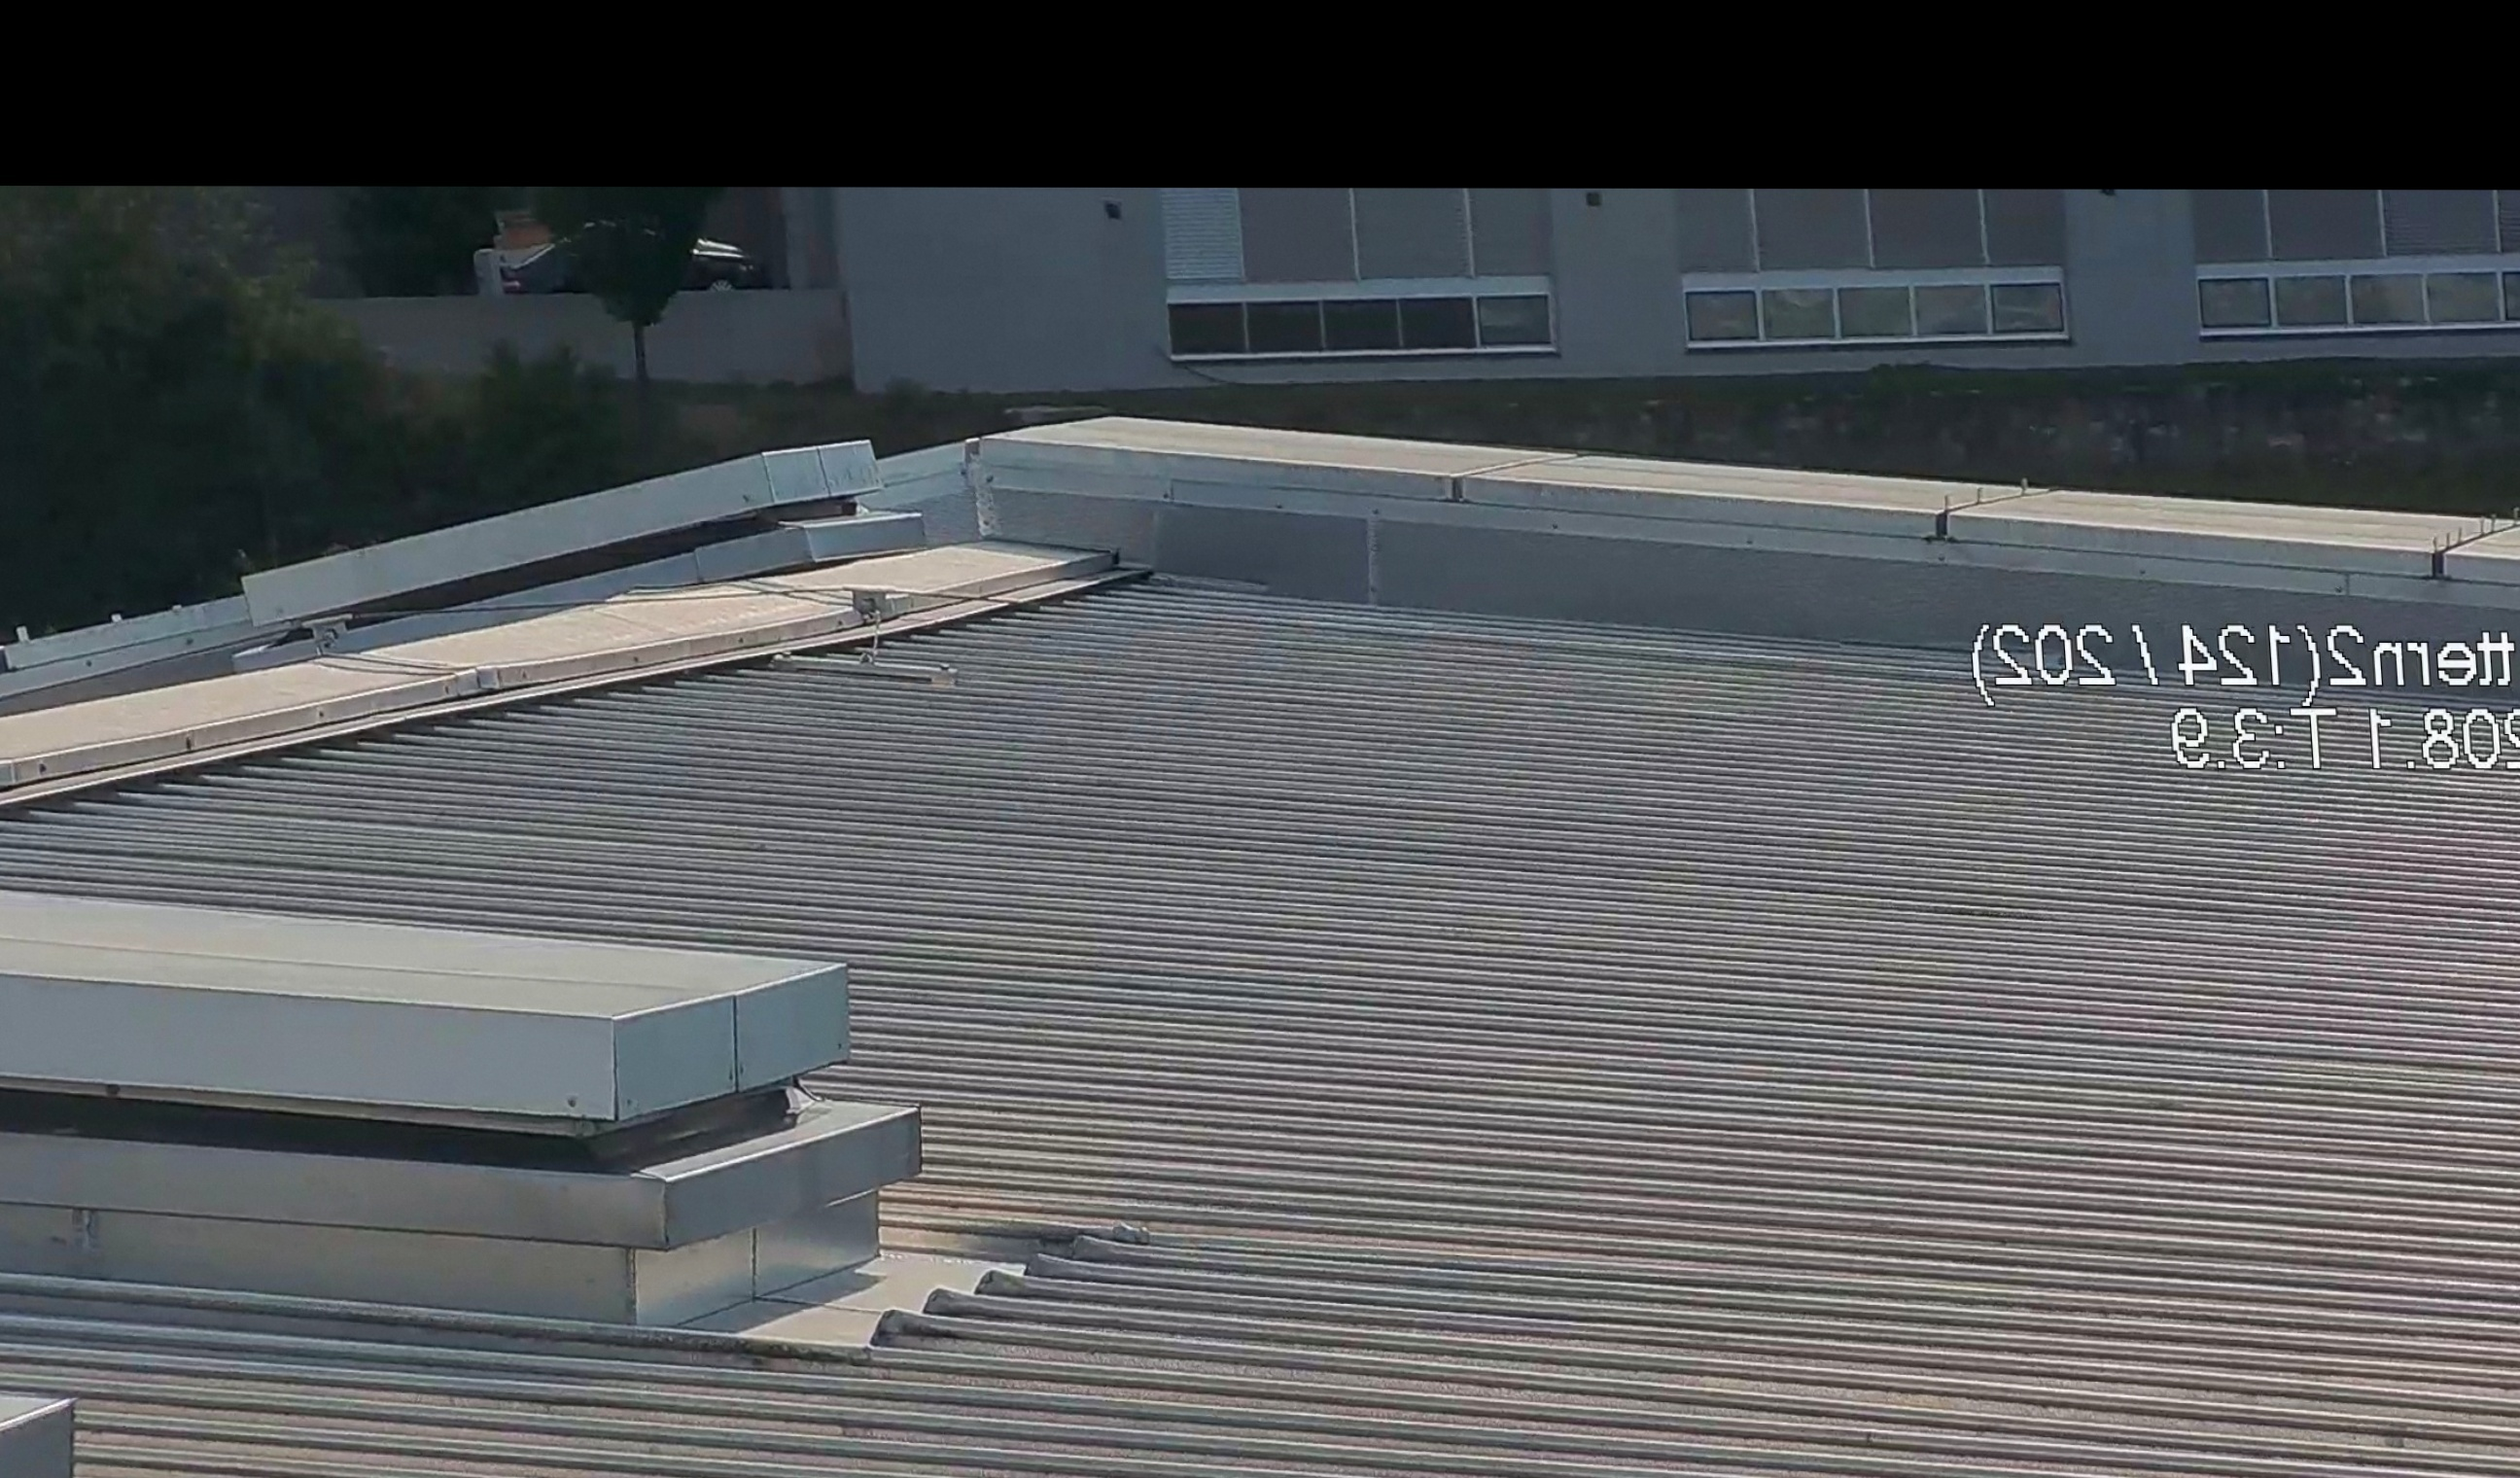Other: (454, 188, 749, 368)
